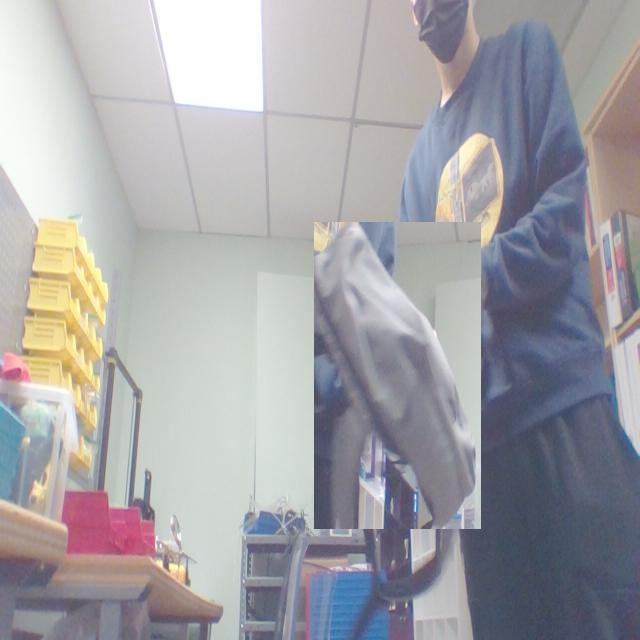Backpacks: (313, 222, 481, 530)
